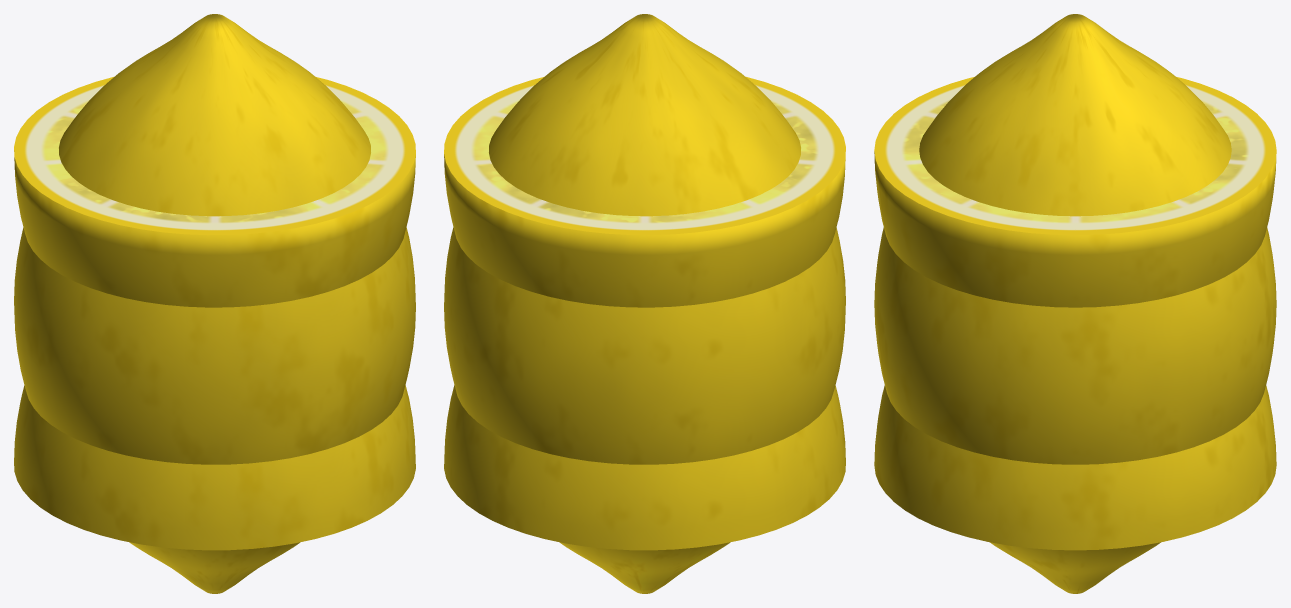
File: lemon.glb
3 views of the same model, side by side, from view 1: azimuth 30°, elevation 25°; view 2: azimuth 150°, elevation 25°; view 3: azimuth 270°, elevation 25° (orthographic).
Visible parts, largest first — view 1: whole, bot, top; view 2: whole, bot, top; view 3: whole, bot, top.
Boxes of the visible parts, bbox=[...] form: whole: bbox=[14, 14, 415, 593]; bot: bbox=[14, 76, 415, 307]; top: bbox=[14, 385, 415, 550]; whole: bbox=[444, 14, 845, 593]; bot: bbox=[444, 76, 845, 307]; top: bbox=[444, 385, 845, 550]; whole: bbox=[874, 14, 1276, 593]; bot: bbox=[874, 77, 1276, 307]; top: bbox=[874, 385, 1276, 550].
Bounding box in the file's own units: 0.48 × 0.7616 × 0.48.
Materials: 2 (2 with a texture image).
